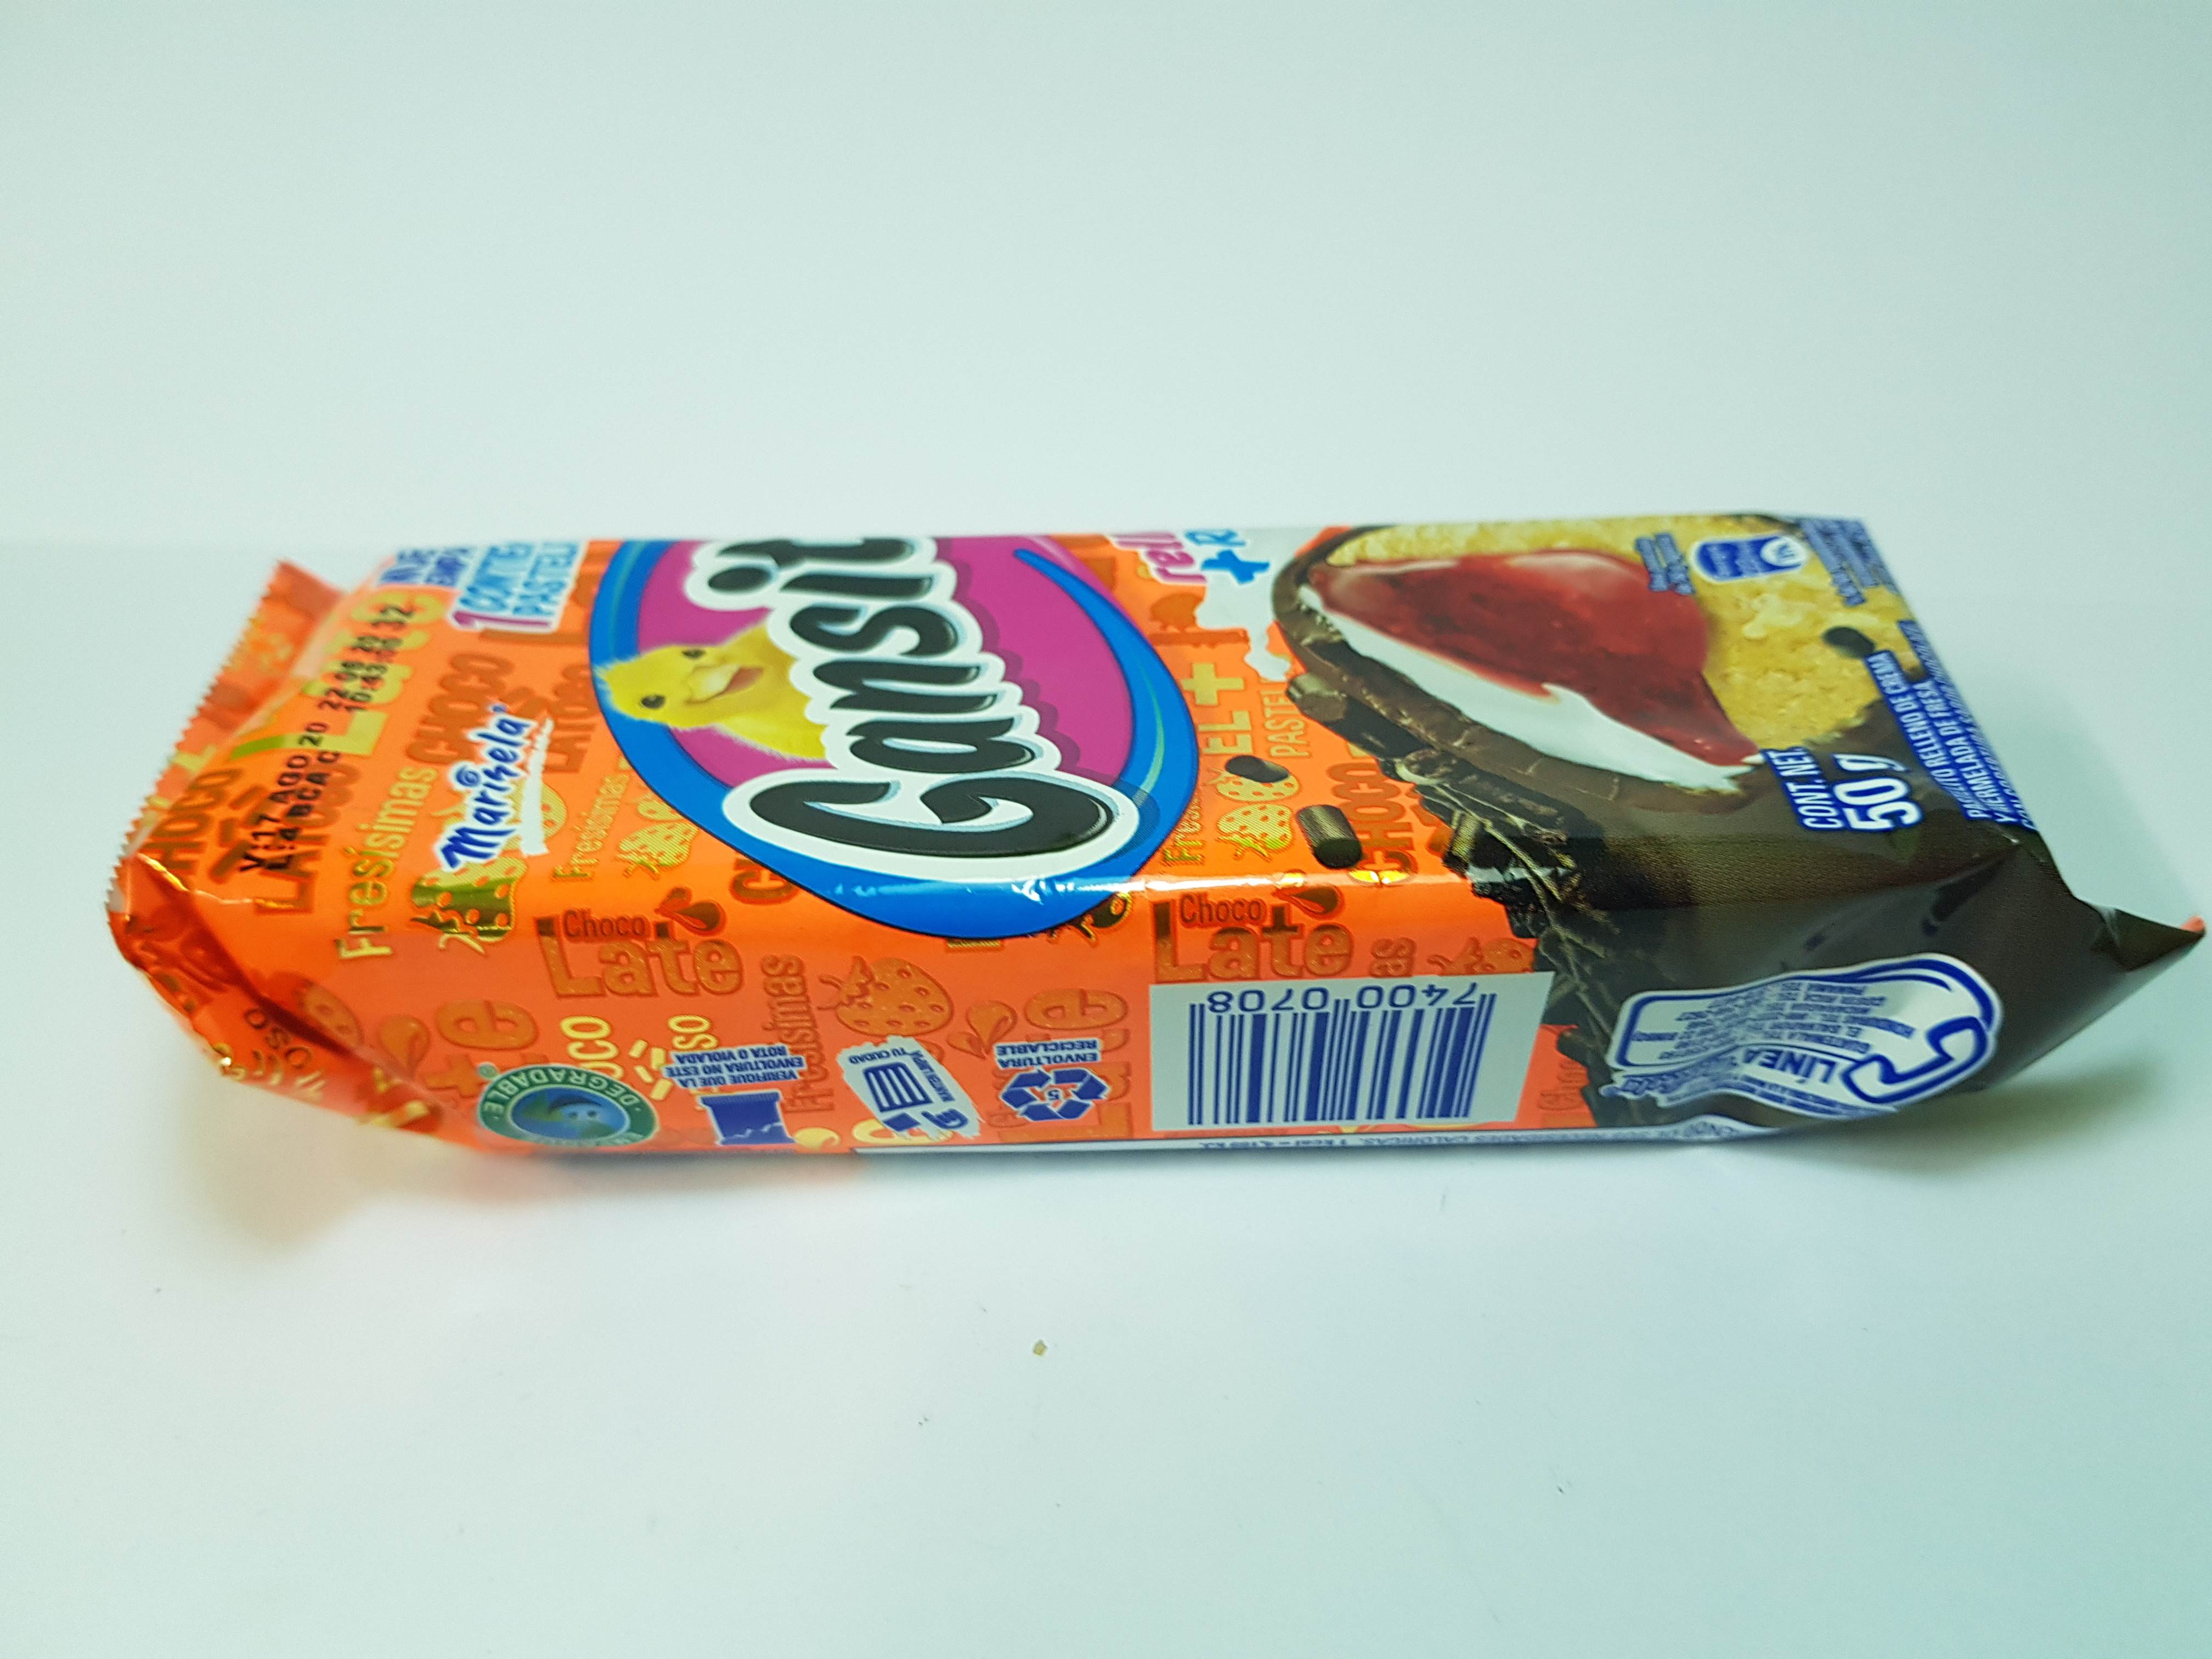gansito: (91, 523, 2203, 1145)
